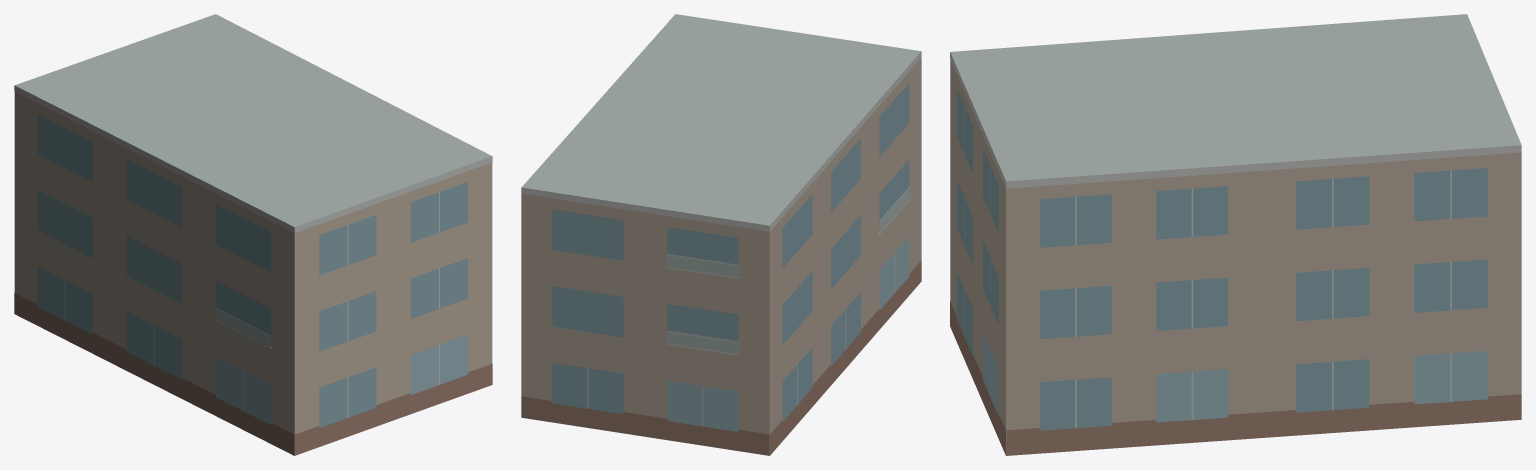
The model's file is survey-upis-32878174.glb.
3 views of the same model, side by side, from view 1: azimuth 30°, elevation 25°; view 2: azimuth 150°, elevation 25°; view 3: azimuth 270°, elevation 25° (orthographic). The views are drawn at different scales.
Parts seen in each view (by area): view 1: survey-upis-32878174.tmp; view 2: survey-upis-32878174.tmp; view 3: survey-upis-32878174.tmp.
Boxes of the visible parts, x1,y1,x2,y2 form: survey-upis-32878174.tmp: [14, 14, 492, 455]; survey-upis-32878174.tmp: [521, 14, 921, 455]; survey-upis-32878174.tmp: [950, 14, 1521, 455].
Size of the model in its own units: 11.98 by 9.15 by 17.28.
